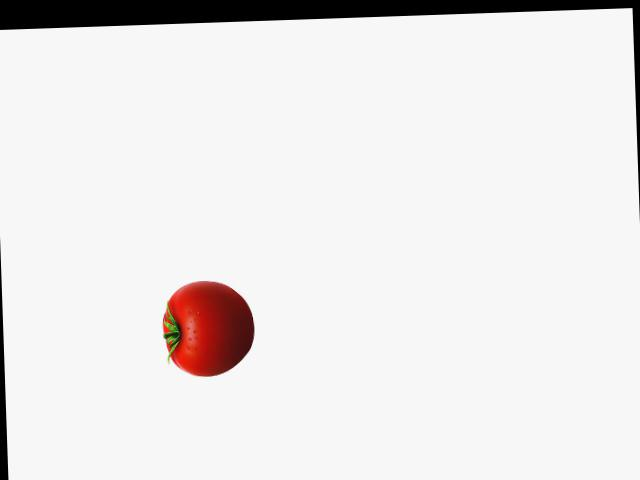tomato: (161, 290, 255, 377)
